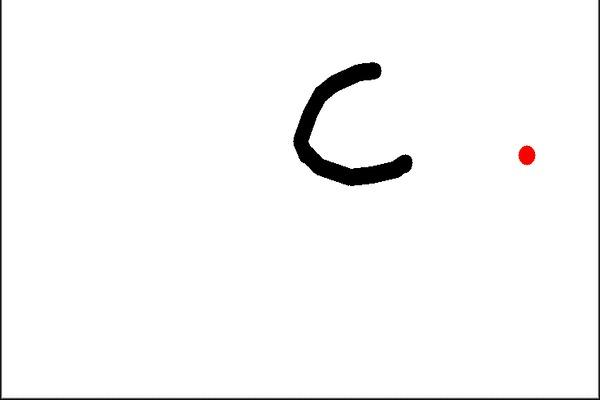C: (290, 56, 415, 187)
